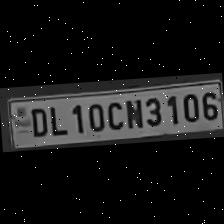0: (83, 99, 105, 132), (178, 90, 200, 122)
1: (64, 100, 84, 134), (162, 92, 180, 124)
3: (141, 93, 163, 127)
6: (198, 88, 218, 120)
C: (103, 97, 123, 130)
D: (26, 104, 48, 137)
L: (46, 102, 67, 136)
N: (122, 96, 142, 130)
